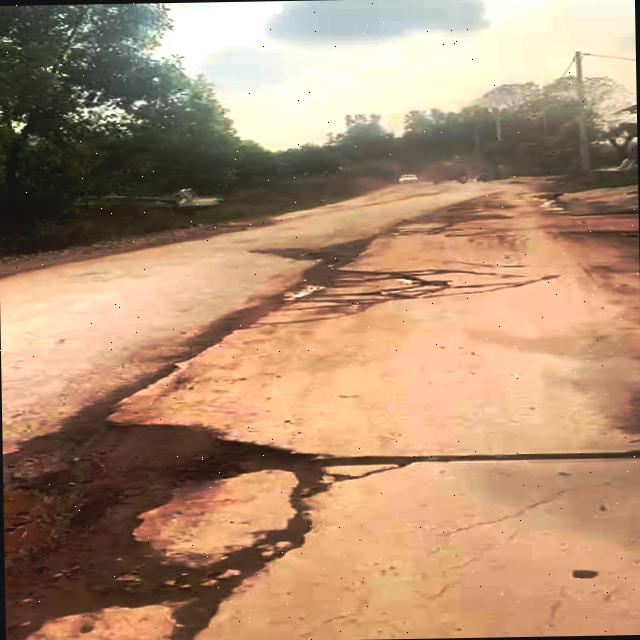pothole: (1, 411, 346, 640), (287, 264, 453, 310)
